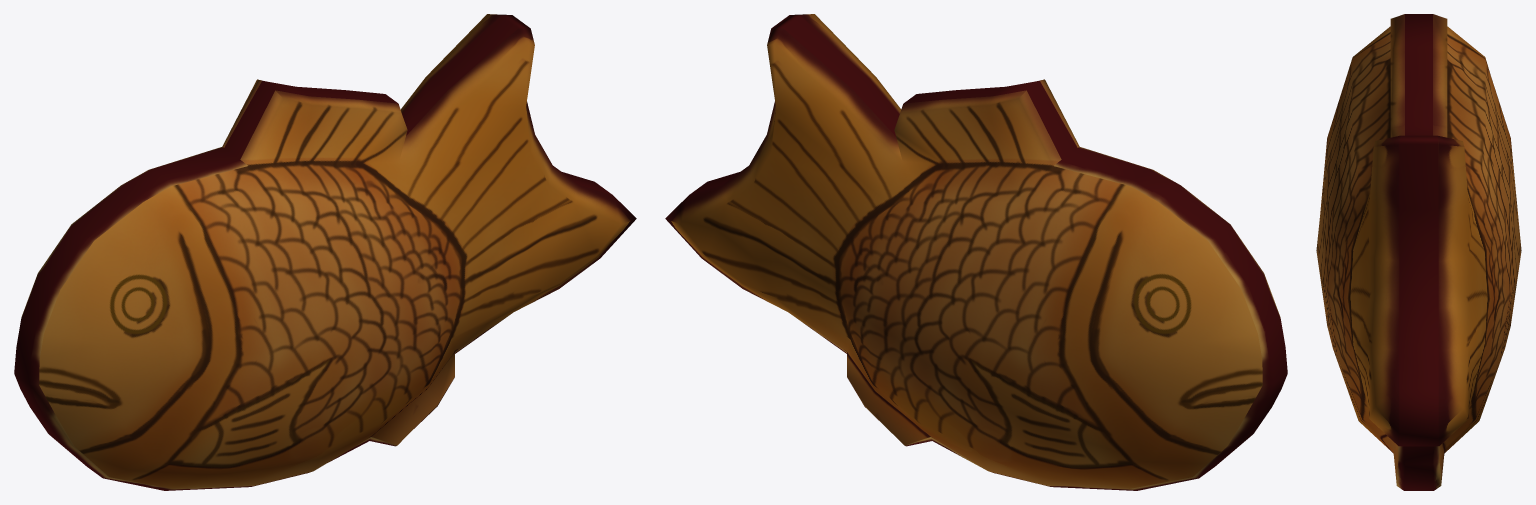
File: Taikayaki.fbx
3 renders of one model, left to right at view 1: azimuth 30°, elevation 25°; view 2: azimuth 150°, elevation 25°; view 3: azimuth 270°, elevation 25°, orthographic. The views are drawn at different scales.
Visible parts, largest first — view 1: taiyaki; view 2: taiyaki; view 3: taiyaki.
Part boxes in pixels (box(x1,y1,x2,y2)): taiyaki: box(14, 14, 636, 490); taiyaki: box(665, 14, 1287, 490); taiyaki: box(1316, 14, 1521, 490).
Bounding box in the file's own units: 80.02 × 49.67 × 21.79.
